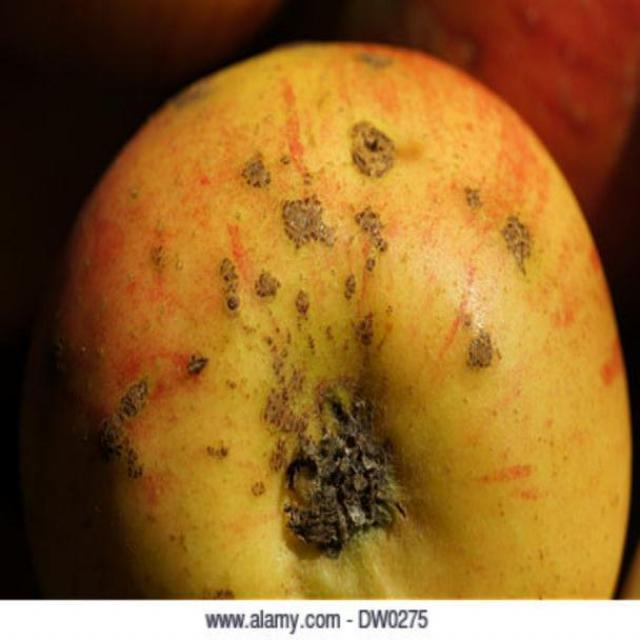SCAB: (46, 70, 626, 584)
